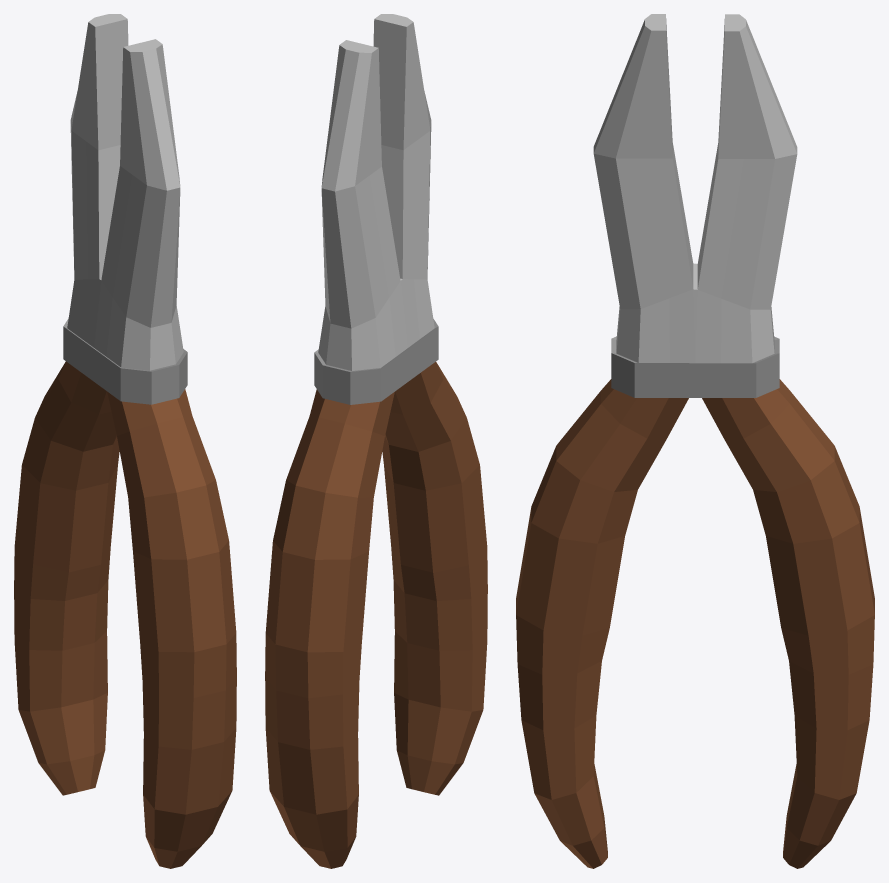
File: plier01.gltf
3 renders of one model, left to right at view 1: azimuth 30°, elevation 25°; view 2: azimuth 150°, elevation 25°; view 3: azimuth 270°, elevation 25°, orthographic. The views are drawn at different scales.
Parts seen in each view (by area): view 1: Cylinder.001; view 2: Cylinder.001; view 3: Cylinder.001.
Part boxes in pixels (x1=…): Cylinder.001: x1=14, y1=14, x2=236, y2=868; Cylinder.001: x1=265, y1=14, x2=487, y2=868; Cylinder.001: x1=516, y1=14, x2=874, y2=868.
Bounding box in the file's own units: 0.0202 × 0.1976 × 0.0763.
1 material, 1 textured.
